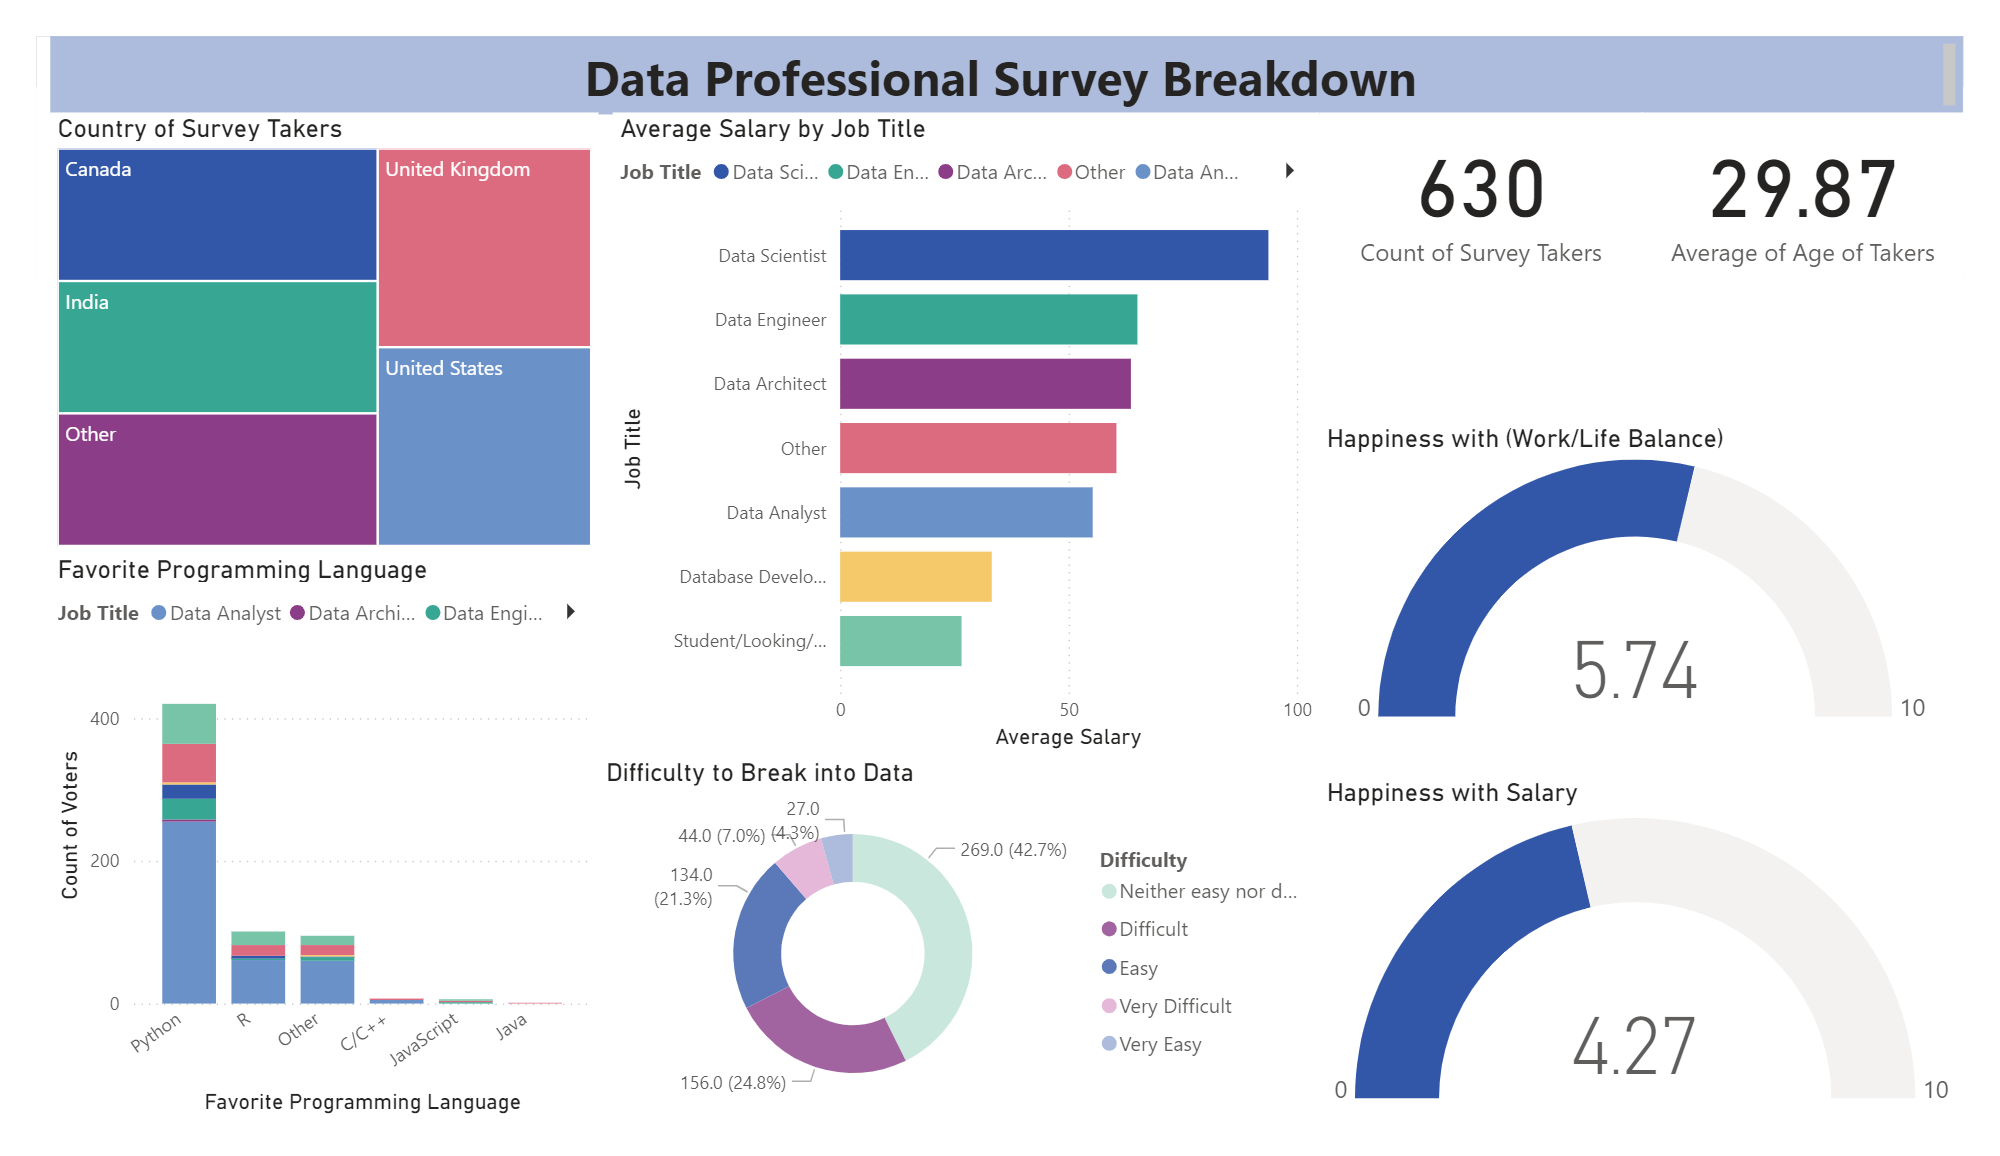

This screenshot's page, from the dashboard's own definition file:
{"tool":"powerbi","page":{"name":"Page 1","canvas":[1280,720],"ordinal":0},"visuals":[{"type":"textbox","box":[9.7,0,1270.3,51.6],"z":0},{"type":"card","fields":{"Values":["CountNonNull(Data Professional Survey.Unique ID)"]},"box":[851.6,51.3,214.8,107.9],"z":1000},{"type":"card","fields":{"Values":["Avg(Data Professional Survey.Q10 - Current Age)"]},"box":[1065.8,51.5,214.2,108.2],"z":2000},{"type":"barChart","title":"Average Salary by Job Title","fields":{"Category":["Data Professional Survey.Q1 - Which Title Best Fits your Current Role?.1"],"Y":["Avg(Data Professional Survey.Average Salary)"],"Series":["Data Professional Survey.Q1 - Which Title Best Fits your Current Role?.1"]},"box":[382.9,50.7,469.2,427.9],"z":3000},{"type":"columnChart","title":"Favorite Programming Language","fields":{"Category":["Data Professional Survey.Q5 - Favorite Programming Language.1"],"Y":["CountNonNull(Data Professional Survey.Unique ID)"],"Series":["Data Professional Survey.Q1 - Which Title Best Fits your Current Role?.1"]},"box":[9.4,343.5,364.1,377.2],"z":4000},{"type":"treemap","title":"Country of Survey Takers","fields":{"Group":["Data Professional Survey.Q11 - Which Country do you live in?.1"],"Values":["Count(Data Professional Survey.Q11 - Which Country do you live in?.1)"]},"box":[9.4,50.7,364.1,292.8],"z":5000},{"type":"gauge","title":"Happiness with Salary","fields":{"Y":["Avg(Data Professional Survey.Q6 - How Happy are you in your Current Position with the following? (Salary))"],"MinValue":["Min(Data Professional Survey.Q6 - How Happy are you in your Current Position with the following? (Salary))"],"MaxValue":["Max(Data Professional Survey.Q6 - How Happy are you in your Current Position with the following? (Salary))"]},"box":[852.1,491.7,427.9,227.1],"z":6000},{"type":"gauge","title":"Happiness with (Work/Life Balance)","fields":{"Y":["Avg(Data Professional Survey.Q6 - How Happy are you in your Current Position with the following? (Work/Life Balance))"],"MinValue":["Min(Data Professional Survey.Q6 - How Happy are you in your Current Position with the following? (Work/Life Balance))"],"MaxValue":["Max(Data Professional Survey.Q6 - How Happy are you in your Current Position with the following? (Work/Life Balance))1"]},"box":[852.1,257.1,427.9,204.6],"z":7000},{"type":"donutChart","title":"Difficulty to Break into Data","fields":{"Category":["Data Professional Survey.Q7 - How difficult was it for you to break into Data?"],"Y":["CountNonNull(Data Professional Survey.Q7 - How difficult was it for you to break into Data?)"]},"box":[373.5,478.6,478.6,242.1],"z":8000}]}

Visuals, with their boxes in screenshot pixels (x1, y1, x2, y2), scaled from the page's 1280x720 canvas onto the 2000x1156 screenshot:
textbox: bbox=(15, 0, 1999, 83)
card - CountNonNull(Data Professional Survey.Unique ID): bbox=(1331, 82, 1666, 256)
card - Avg(Data Professional Survey.Q10 - Current Age): bbox=(1665, 83, 1999, 256)
"Average Salary by Job Title" barChart: bbox=(598, 81, 1331, 768)
"Favorite Programming Language" columnChart: bbox=(15, 552, 584, 1155)
"Country of Survey Takers" treemap: bbox=(15, 81, 584, 552)
"Happiness with Salary" gauge: bbox=(1331, 789, 1999, 1154)
"Happiness with (Work/Life Balance)" gauge: bbox=(1331, 413, 1999, 741)
"Difficulty to Break into Data" donutChart: bbox=(584, 768, 1331, 1155)
